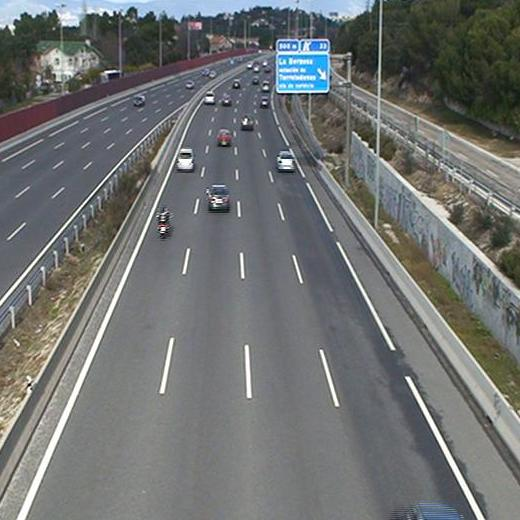car: (206, 183, 231, 210), (176, 148, 196, 170), (276, 150, 297, 169), (216, 130, 232, 146), (203, 90, 218, 103), (239, 115, 251, 129)
motorcycle: (155, 203, 174, 241)
